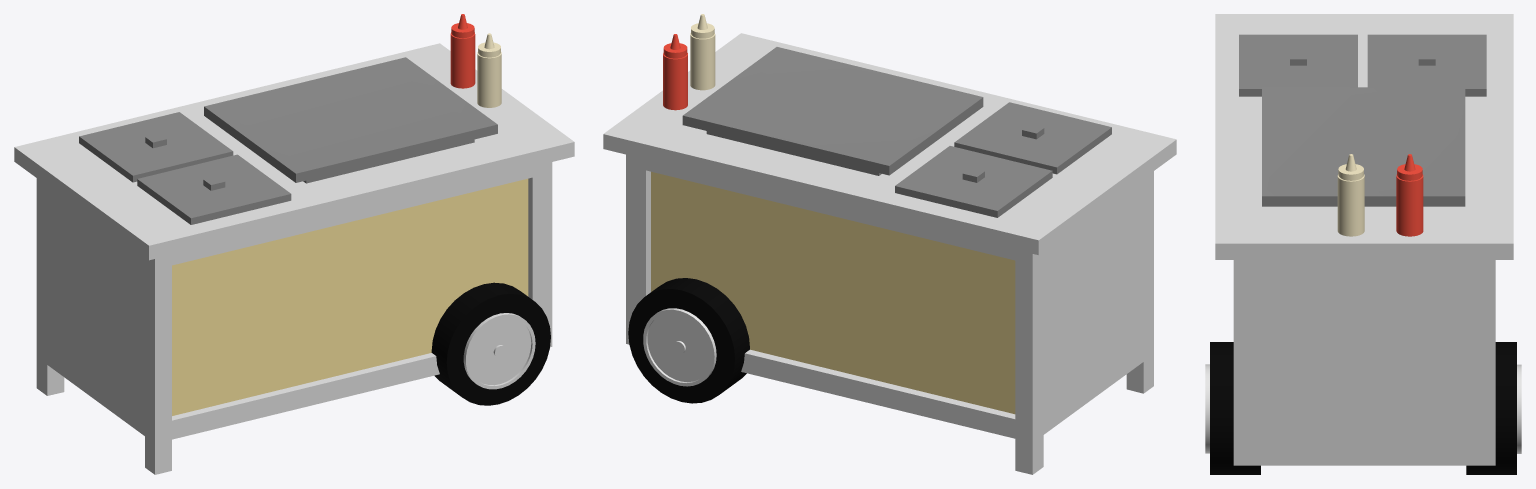
The model's file is Kitchen.fbx.
3 views of the same model, side by side, from view 1: azimuth 30°, elevation 25°; view 2: azimuth 150°, elevation 25°; view 3: azimuth 270°, elevation 25° (orthographic). The views are drawn at different scales.
Visible parts, largest first — view 1: Cube, Cube_3, Cylinder_1, Cube_2, Cube_1, Cylinder, Cylinder_3, Cylinder_5; view 2: Cube, Cube_3, Cylinder_2, Cube_1, Cube_2, Cylinder_1_2, Cylinder_5, Cylinder_3; view 3: Cube, Cube_3, Cube_1, Cube_2, Cylinder_1, Cylinder_2, Cylinder_5, Cylinder_3, Cylinder_1_2, Cylinder, Cylinder_6, Cylinder_4.
Part boxes in pixels (x1,y1,x2,y2): Cube: [14, 43, 574, 474]; Cube_3: [204, 57, 497, 183]; Cylinder_1: [431, 282, 550, 405]; Cube_2: [137, 154, 291, 224]; Cube_1: [79, 112, 233, 182]; Cylinder: [463, 313, 535, 389]; Cylinder_3: [450, 32, 475, 88]; Cylinder_5: [477, 52, 501, 107]; Cube: [603, 33, 1176, 474]; Cube_3: [682, 47, 983, 175]; Cylinder_2: [628, 278, 749, 403]; Cube_1: [895, 146, 1052, 217]; Cube_2: [954, 102, 1111, 174]; Cylinder_1_2: [643, 308, 716, 386]; Cylinder_5: [690, 33, 715, 90]; Cylinder_3: [663, 53, 687, 110]; Cube: [1215, 14, 1513, 465]; Cube_3: [1262, 87, 1465, 206]; Cube_1: [1367, 34, 1486, 96]; Cube_2: [1239, 34, 1357, 96]; Cylinder_1: [1210, 342, 1260, 474]; Cylinder_2: [1466, 342, 1516, 474]; Cylinder_5: [1337, 174, 1364, 236]; Cylinder_3: [1396, 174, 1423, 236]; Cylinder_1_2: [1517, 364, 1521, 453]; Cylinder: [1205, 364, 1209, 453]; Cylinder_6: [1338, 154, 1363, 180]; Cylinder_4: [1397, 154, 1422, 180].
Size of the model in its own units: 321 by 224 by 187.
